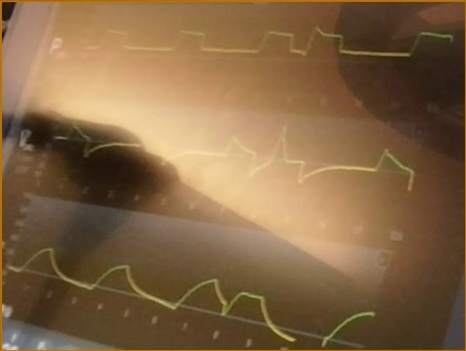Double_Triggering Flow: (56, 115, 415, 192)
Double_Triggering Volume: (12, 245, 377, 346)
